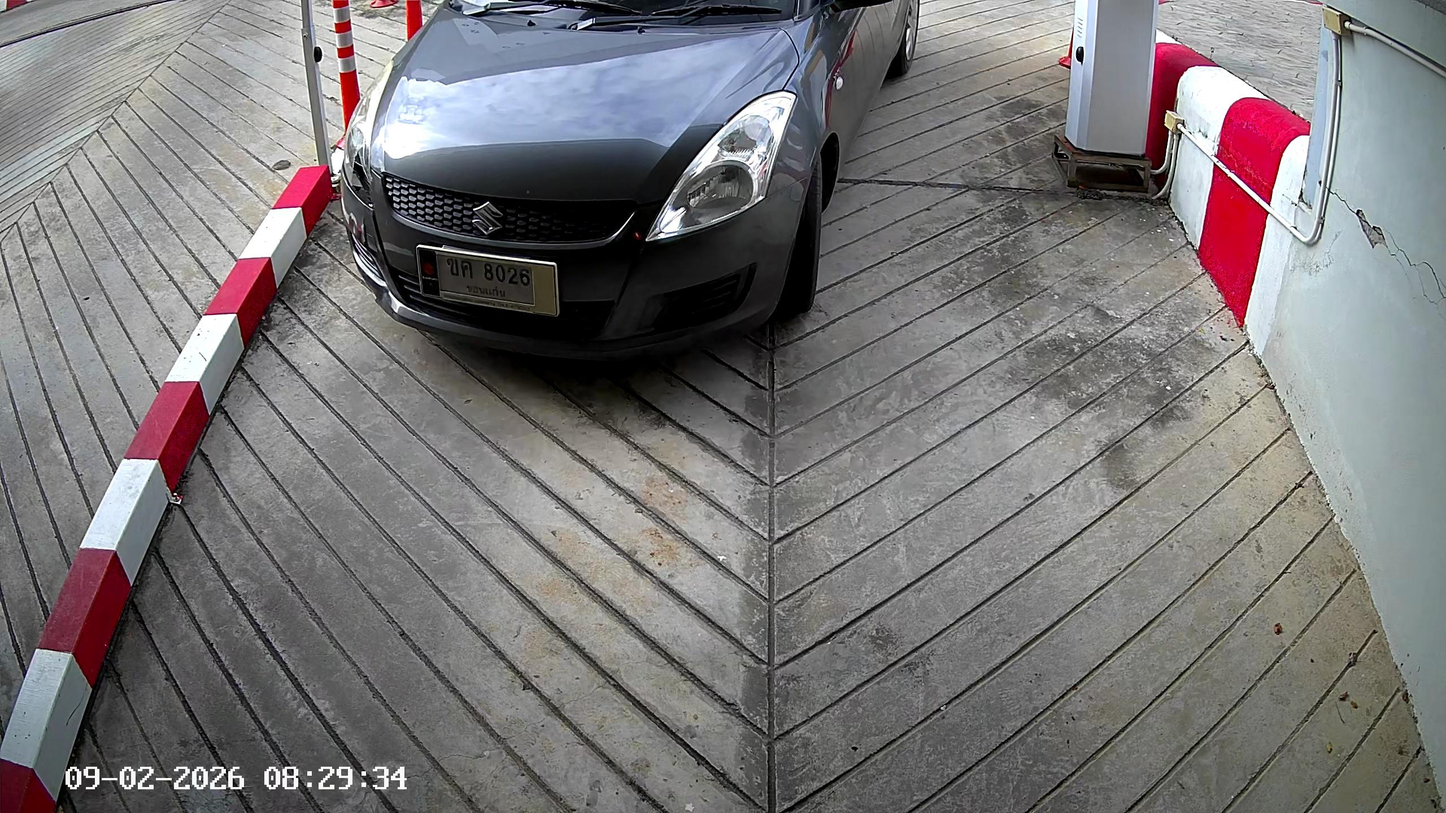car: (347, 3, 923, 366)
license-plate: (425, 243, 563, 320)
